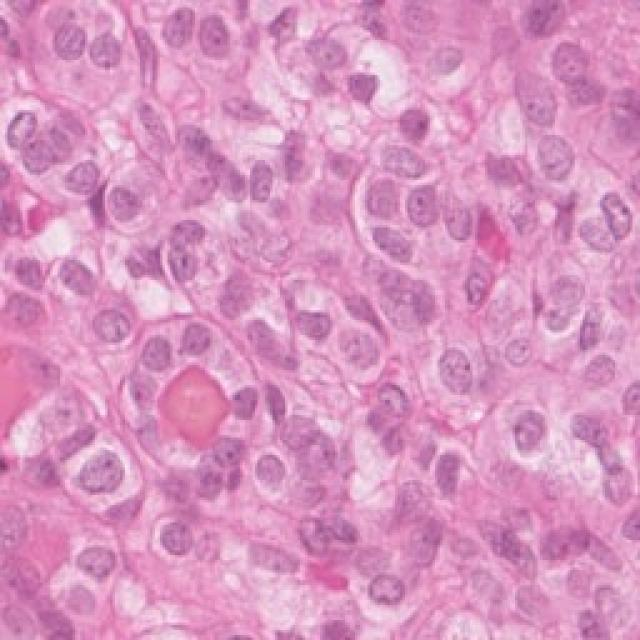abnormal: (57, 273, 140, 362), (495, 389, 577, 479), (181, 0, 261, 83), (295, 13, 372, 97), (160, 135, 232, 218), (355, 558, 432, 635), (319, 305, 389, 383), (511, 58, 581, 132), (147, 235, 217, 305), (373, 267, 443, 337), (420, 337, 488, 405), (577, 194, 640, 267), (58, 452, 130, 515), (528, 128, 590, 192), (56, 136, 116, 201), (132, 5, 205, 58), (98, 170, 152, 238), (151, 502, 206, 560), (168, 323, 222, 382), (87, 20, 130, 85), (353, 171, 407, 221), (132, 337, 183, 387)
